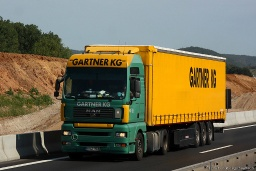truck: (57, 40, 228, 154)
